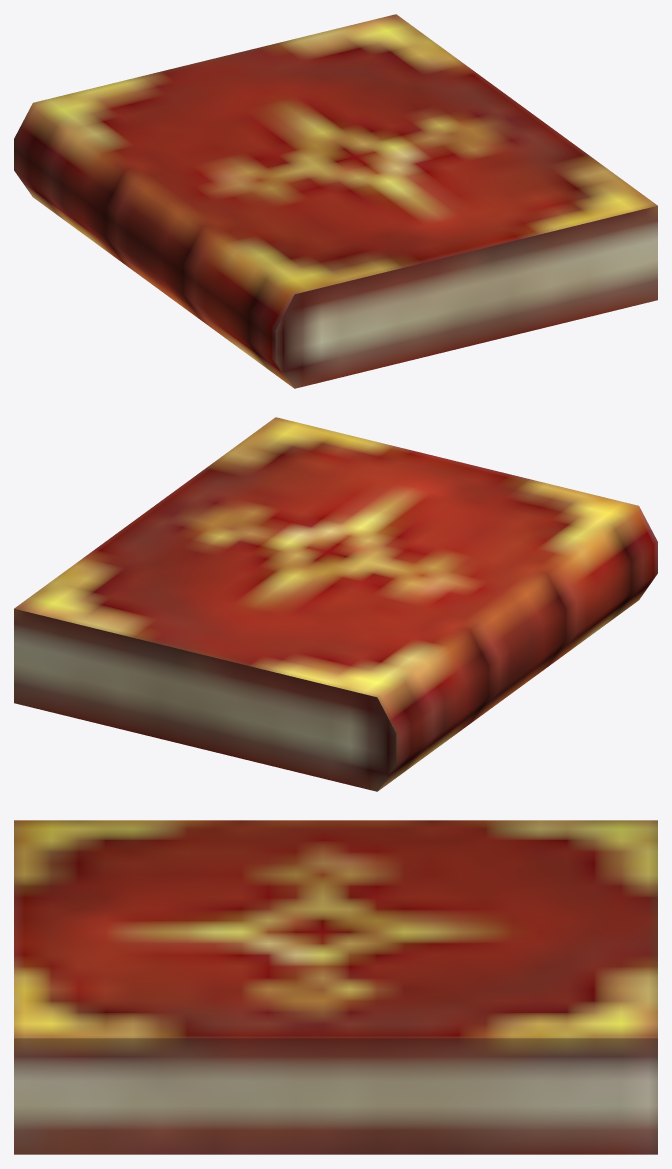
Rendered from etc_prop_6.FBX.
3 renders of one model, top to bottom at view 1: azimuth 30°, elevation 25°; view 2: azimuth 150°, elevation 25°; view 3: azimuth 270°, elevation 25°, orthographic. The views are drawn at different scales.
Parts seen in each view (by area): view 1: etc_prop_6; view 2: etc_prop_6; view 3: etc_prop_6.
Part boxes in pixels (x1,y1,x2,y2): etc_prop_6: (14,14,657,388); etc_prop_6: (14,417,657,791); etc_prop_6: (14,820,657,1154).
Size of the model in its own units: 14.31 by 3.38 by 16.97.
